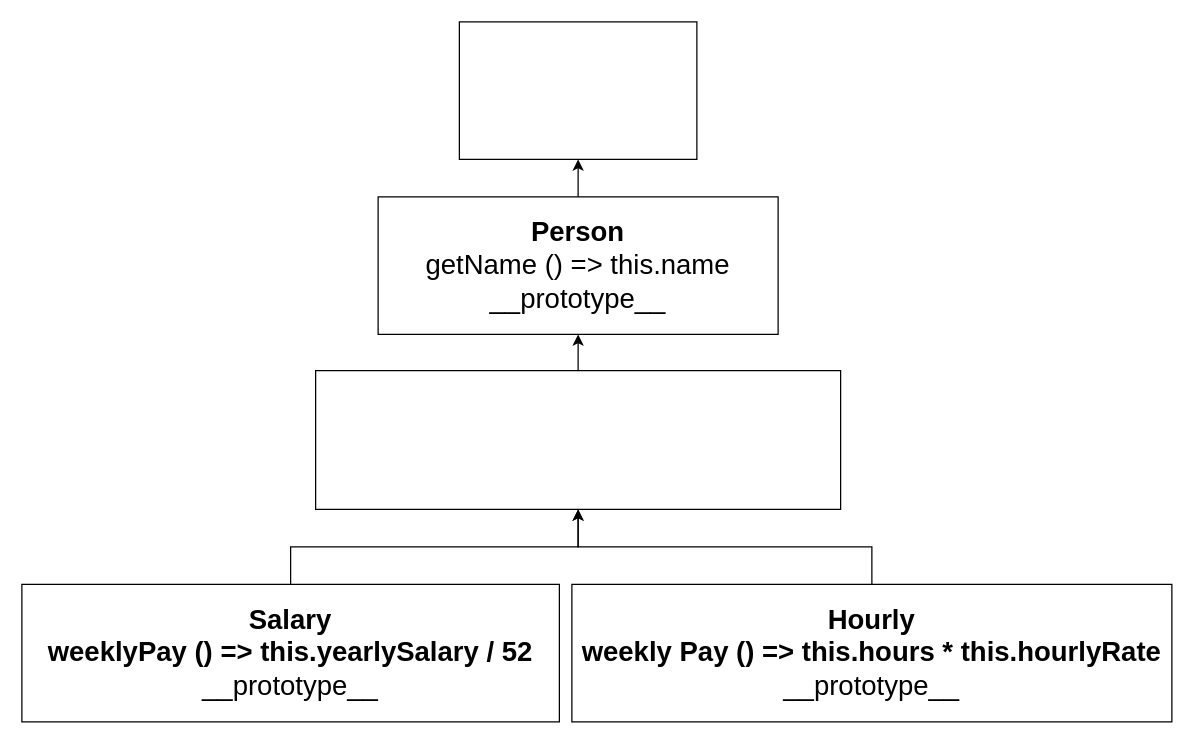
This 1194x744 diagram has some shape labels left out. The shapes that lost their labels are listed below. From the top down, each one's centre as x and y in pixels, then its label:
At (x=577, y=90): "Object toString() __prototype__".
At (x=577, y=439): "Employee incomeTax () = totalIncome * 0.10 __prototype__".
